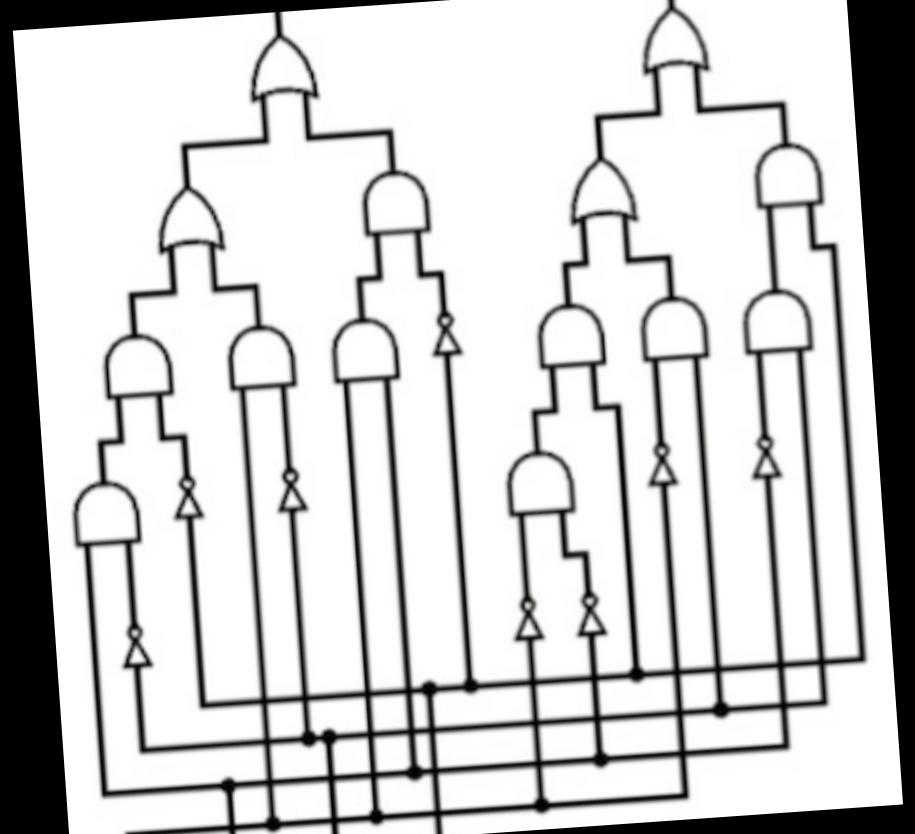and: (736, 124, 835, 224), (212, 302, 304, 404), (728, 274, 831, 365), (522, 288, 620, 382), (493, 437, 594, 527), (318, 301, 412, 397), (351, 154, 442, 252), (86, 322, 184, 408), (628, 280, 716, 370), (62, 473, 148, 555)
not: (496, 587, 560, 658), (628, 428, 694, 496), (740, 413, 794, 490), (266, 450, 318, 520), (566, 574, 615, 646), (160, 467, 212, 532), (112, 616, 164, 680), (422, 300, 470, 364)
or: (548, 141, 646, 236), (622, 0, 729, 87), (237, 18, 330, 117), (142, 174, 234, 266)
